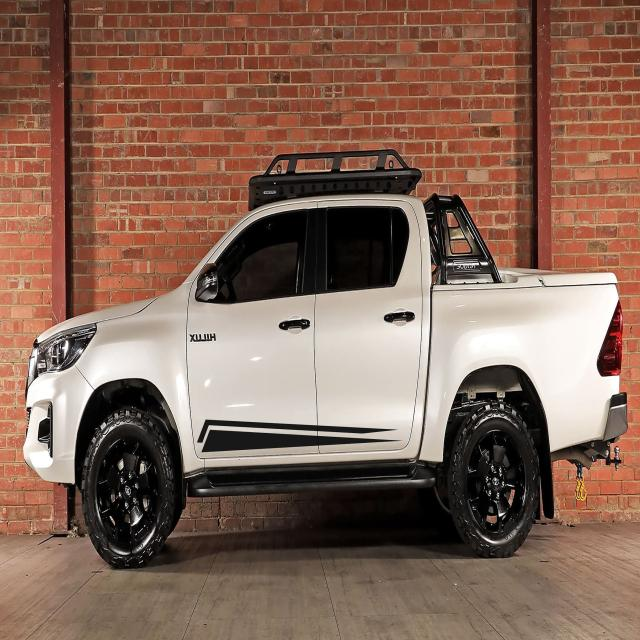Pickup Trucks: (23, 148, 625, 574)
